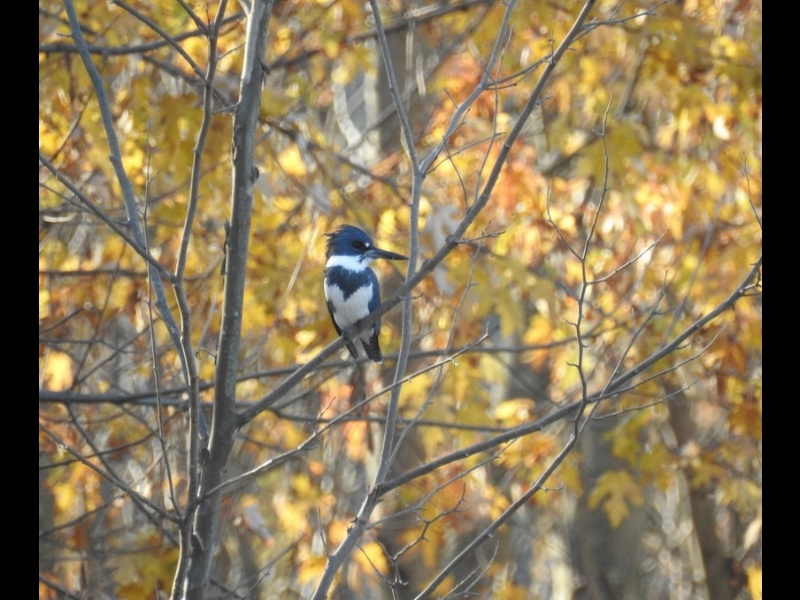kingfisher: (321, 225, 407, 363)
